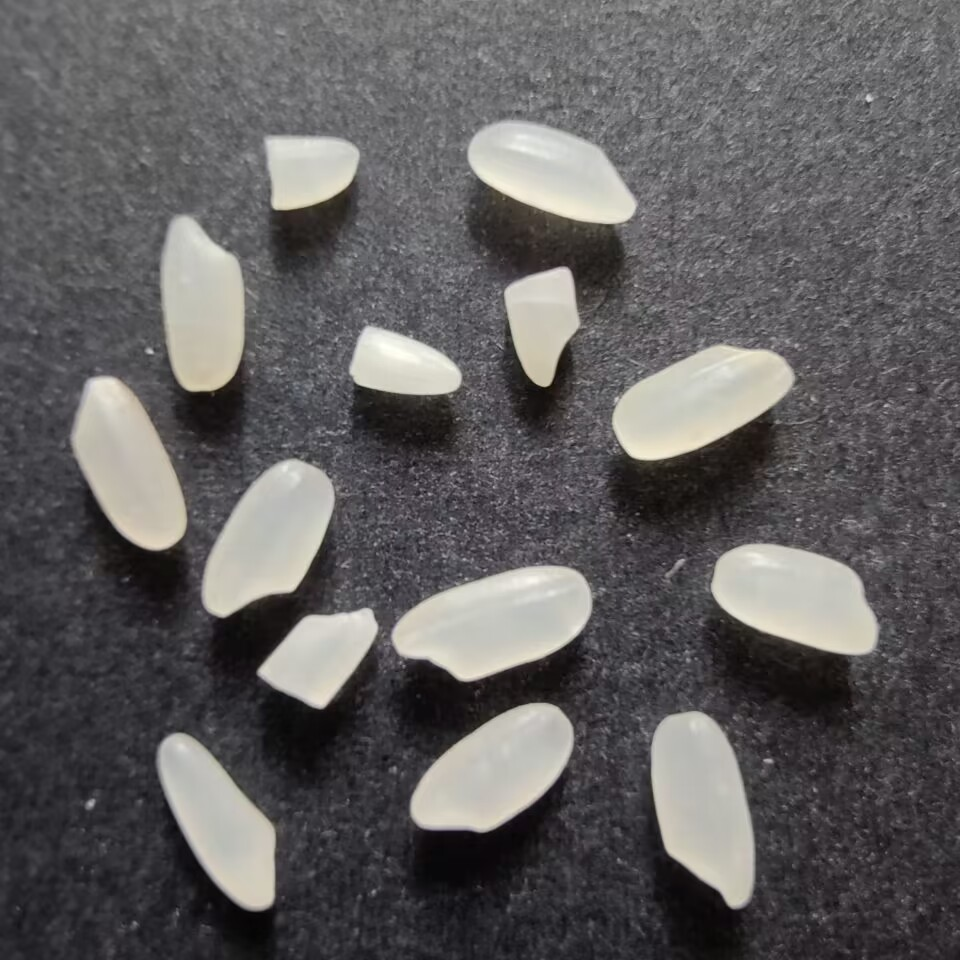broken: (255, 607, 378, 711), (500, 266, 585, 394), (347, 322, 467, 398), (258, 131, 361, 213)
rice: (388, 560, 592, 687), (607, 336, 798, 464), (151, 730, 282, 916), (195, 456, 341, 618), (406, 701, 579, 836), (649, 707, 759, 914), (67, 369, 188, 556), (705, 540, 882, 660), (464, 118, 642, 229), (159, 211, 249, 394)
